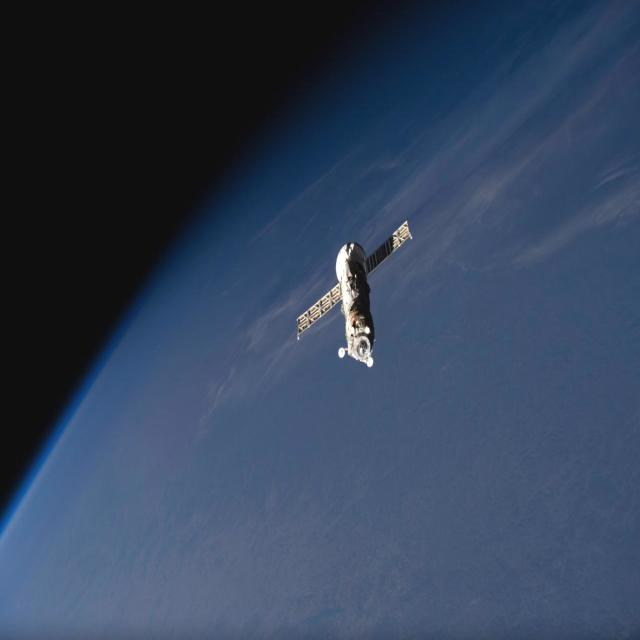satellite: (297, 224, 406, 376)
